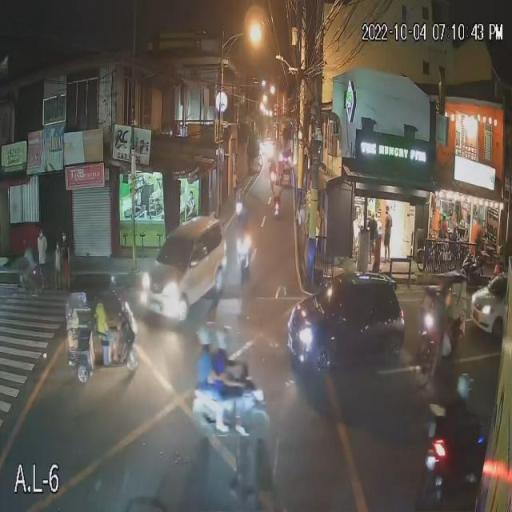helmet: (457, 370, 478, 394), (197, 322, 213, 350), (218, 324, 230, 357)
motorcycle: (192, 374, 270, 440), (424, 430, 482, 504), (235, 240, 257, 273), (231, 202, 246, 224), (271, 199, 284, 224), (267, 171, 277, 185)
rider: (446, 372, 478, 444), (195, 316, 214, 401), (214, 314, 230, 387), (240, 218, 252, 258), (271, 174, 283, 202), (234, 181, 246, 206), (270, 158, 276, 172)
